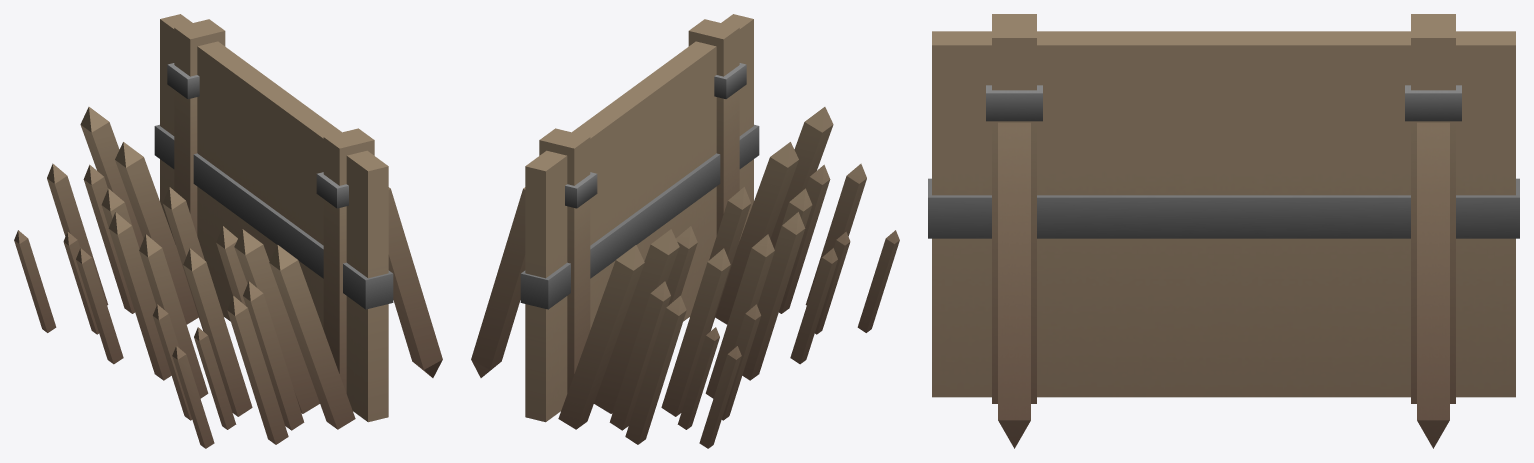
Rendered from ItemProps_WallSpike.fbx.
The picture shows the model from 3 angles, left to right: view 1: azimuth 30°, elevation 25°; view 2: azimuth 150°, elevation 25°; view 3: azimuth 270°, elevation 25°; orthographic projection. The views are drawn at different scales.
Parts seen in each view (by area): view 1: Cube.062; view 2: Cube.062; view 3: Cube.062.
Boxes of the visible parts, x1,y1,x2,y2 form: Cube.062: (14,14,442,448); Cube.062: (471,14,899,448); Cube.062: (928,14,1519,448).
Size of the model in its own units: 222 by 223 by 305.
